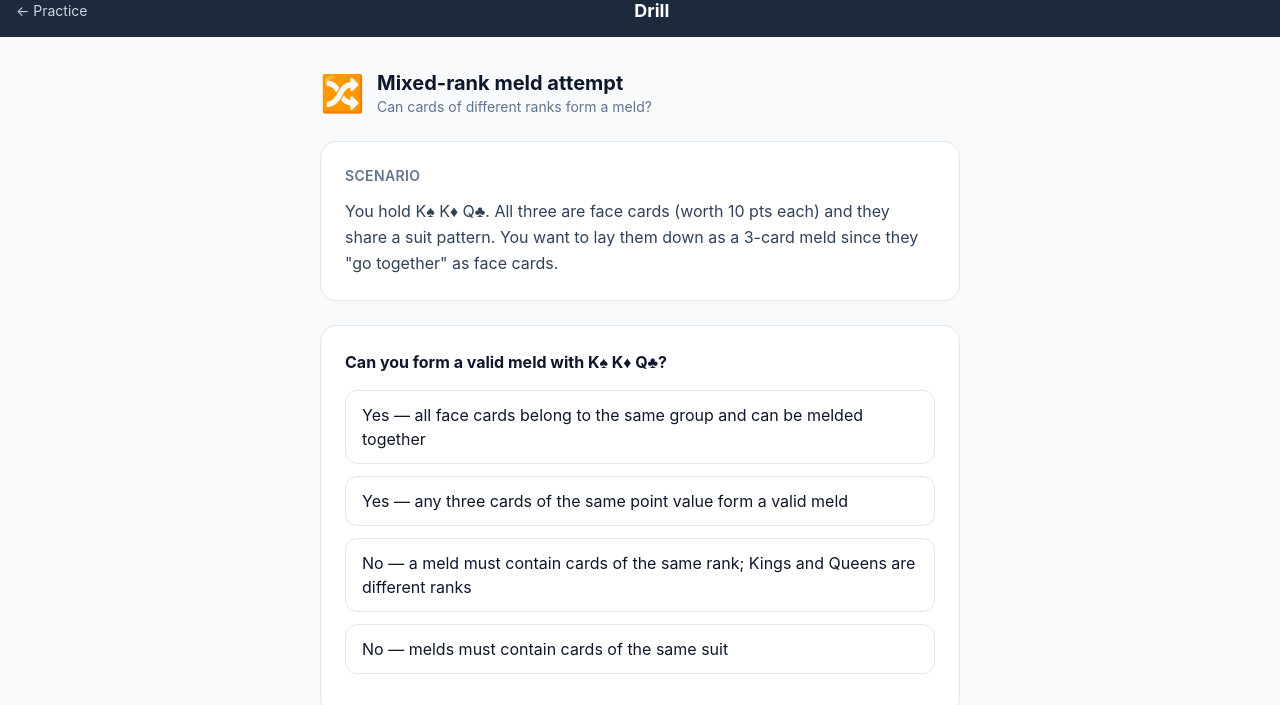
Test: PracticeScenario › shows "All drills complete" link after answering last scenario correctly
Click the button "No — a meld must contain cards of the same rank; Kings and Queens are different ranks" at (640, 575), box [345, 538, 935, 612]
(page scrolled)
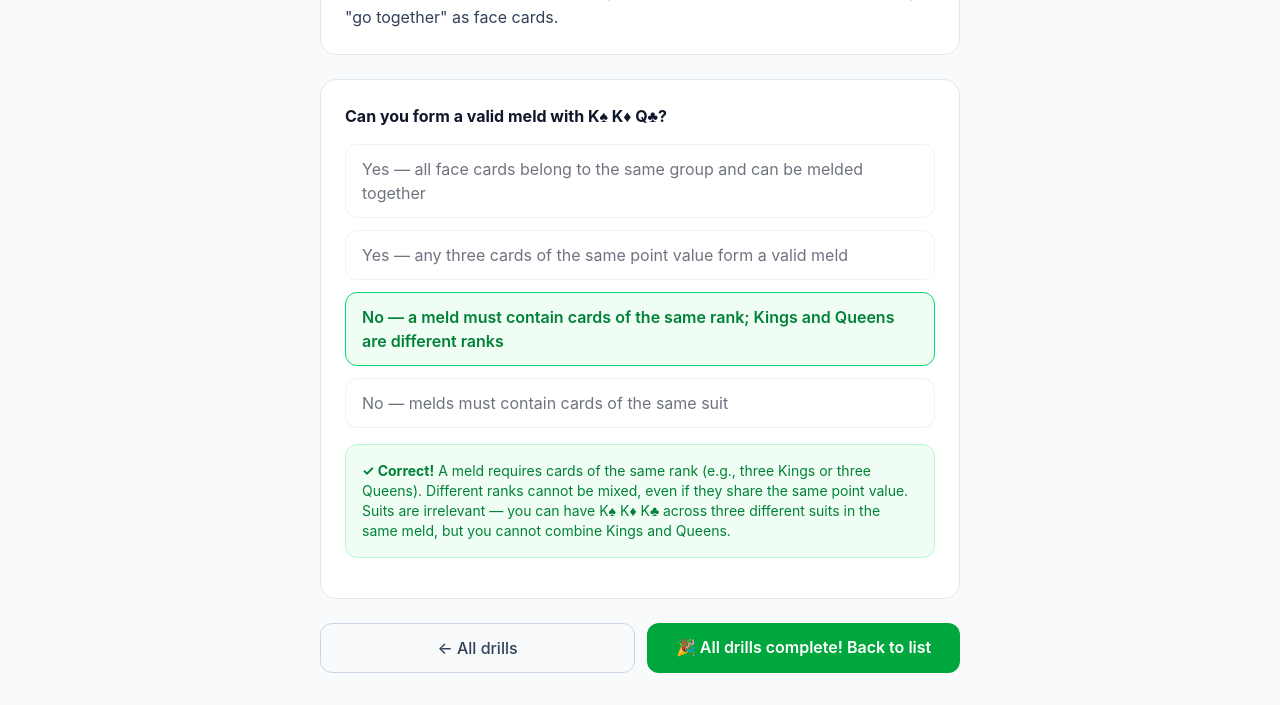
Now the link "🎉 All drills complete! Back to list" is shown, box [647, 623, 960, 673]
